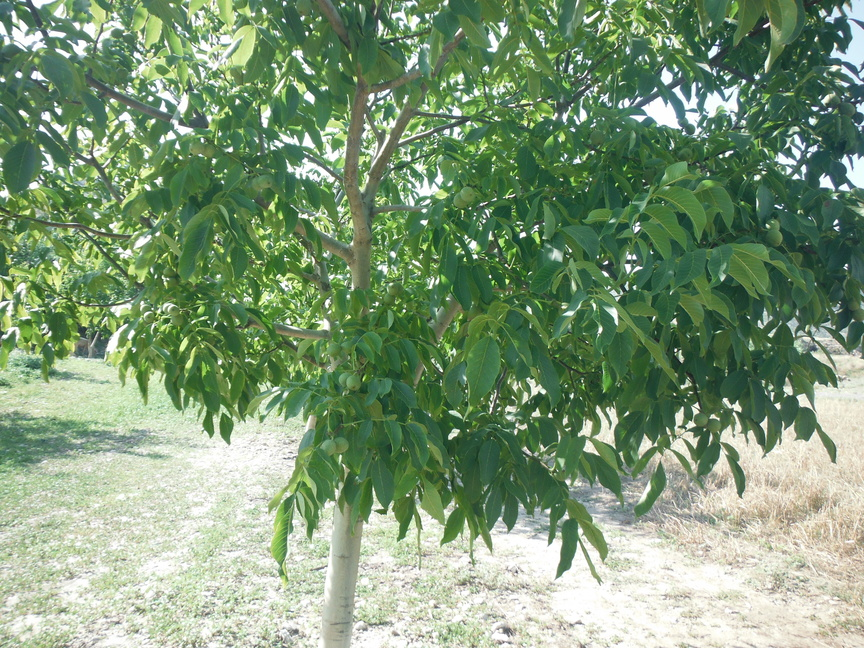walnut: (821, 90, 844, 110), (764, 229, 786, 249), (332, 436, 352, 456), (318, 438, 337, 459), (839, 99, 857, 121), (589, 128, 608, 147), (188, 137, 206, 157), (293, 0, 313, 18), (323, 342, 343, 359), (692, 409, 709, 429), (705, 417, 722, 437), (460, 185, 477, 204), (346, 374, 363, 392), (640, 165, 658, 182), (764, 216, 782, 233), (336, 370, 353, 387), (339, 339, 357, 355), (452, 192, 468, 210), (203, 141, 216, 163), (638, 20, 657, 35), (250, 174, 264, 194), (228, 63, 245, 79), (849, 306, 864, 324), (846, 297, 862, 313), (258, 173, 273, 190), (109, 25, 126, 40), (385, 280, 400, 297), (678, 146, 693, 163), (167, 302, 183, 317), (593, 81, 608, 97), (683, 121, 698, 137), (674, 113, 689, 128), (142, 310, 158, 324), (382, 292, 396, 308), (115, 64, 129, 79), (170, 314, 185, 327), (138, 302, 154, 314), (122, 32, 137, 44), (161, 266, 177, 277), (232, 75, 246, 87), (162, 301, 172, 314)
